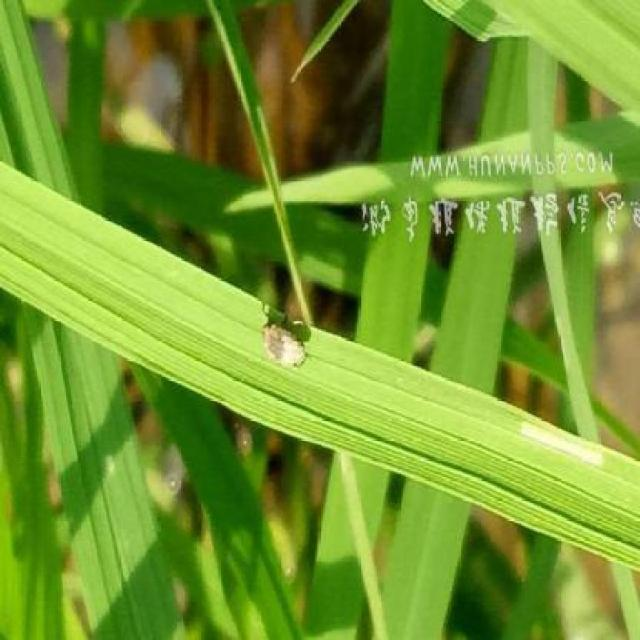rice-bug: (261, 307, 317, 371)
